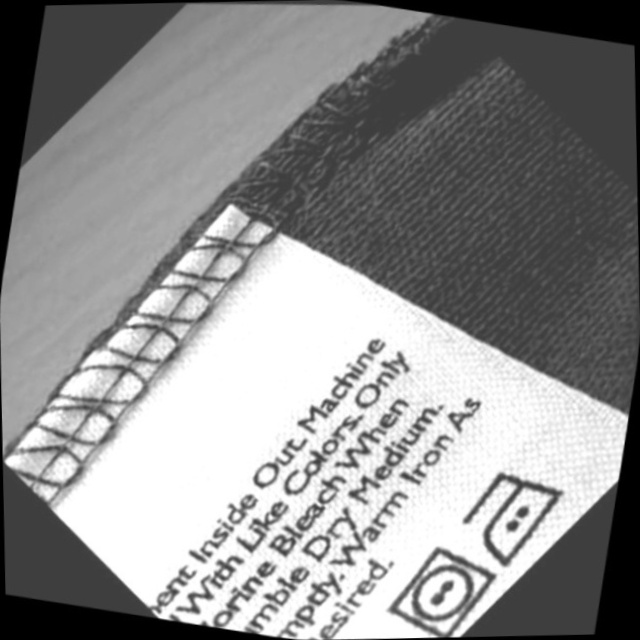iron_medium: (445, 450, 589, 585)
tumble_dry_medium: (372, 526, 517, 640)
